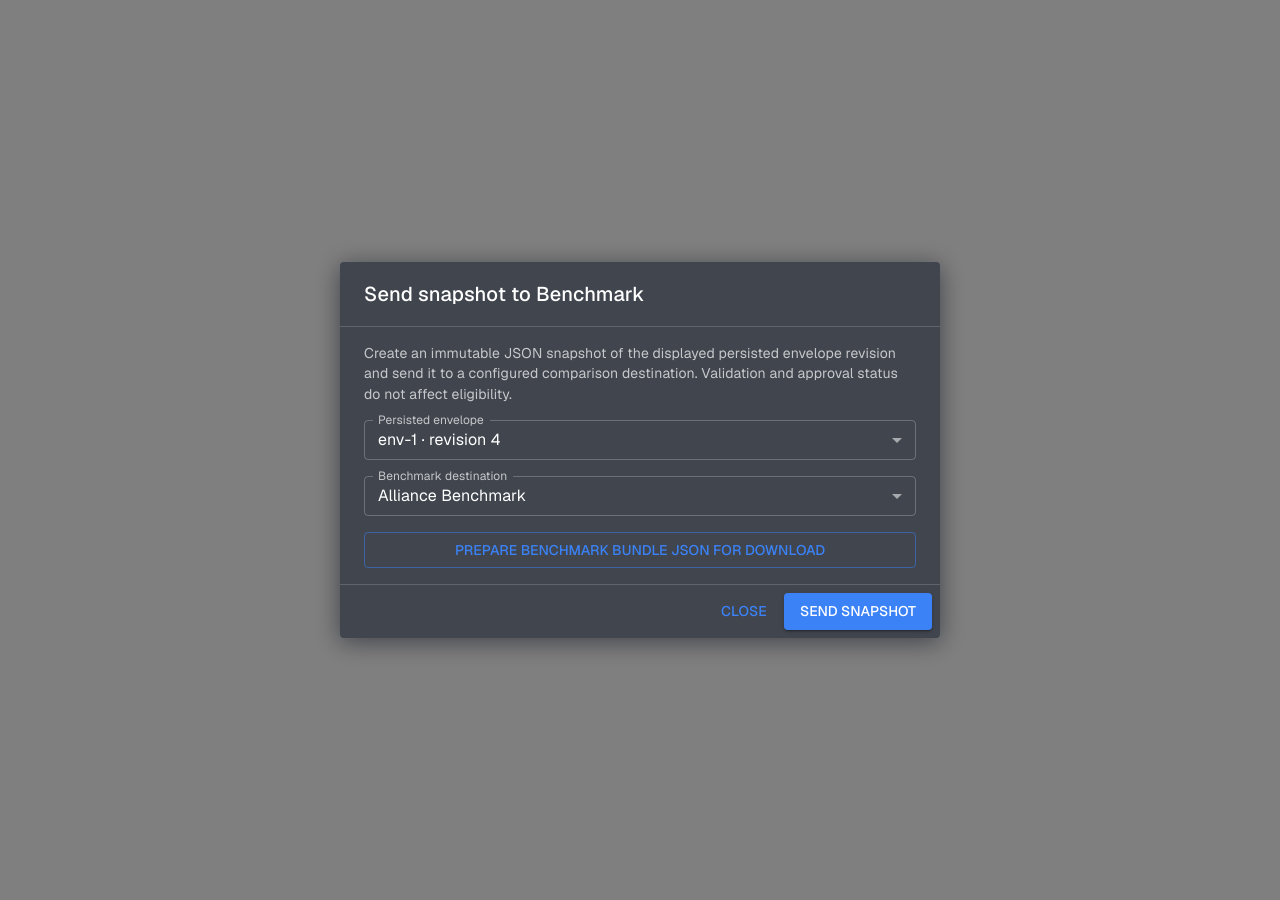
Test: BenchmarkSnapshotDialog › preserves an unknown handoff for download without navigation or resend
Expected: the dropdown named "Benchmark destination" is shown, [378,485,526,506]
Click the button "Send snapshot": (858, 611) [784,593,932,630]
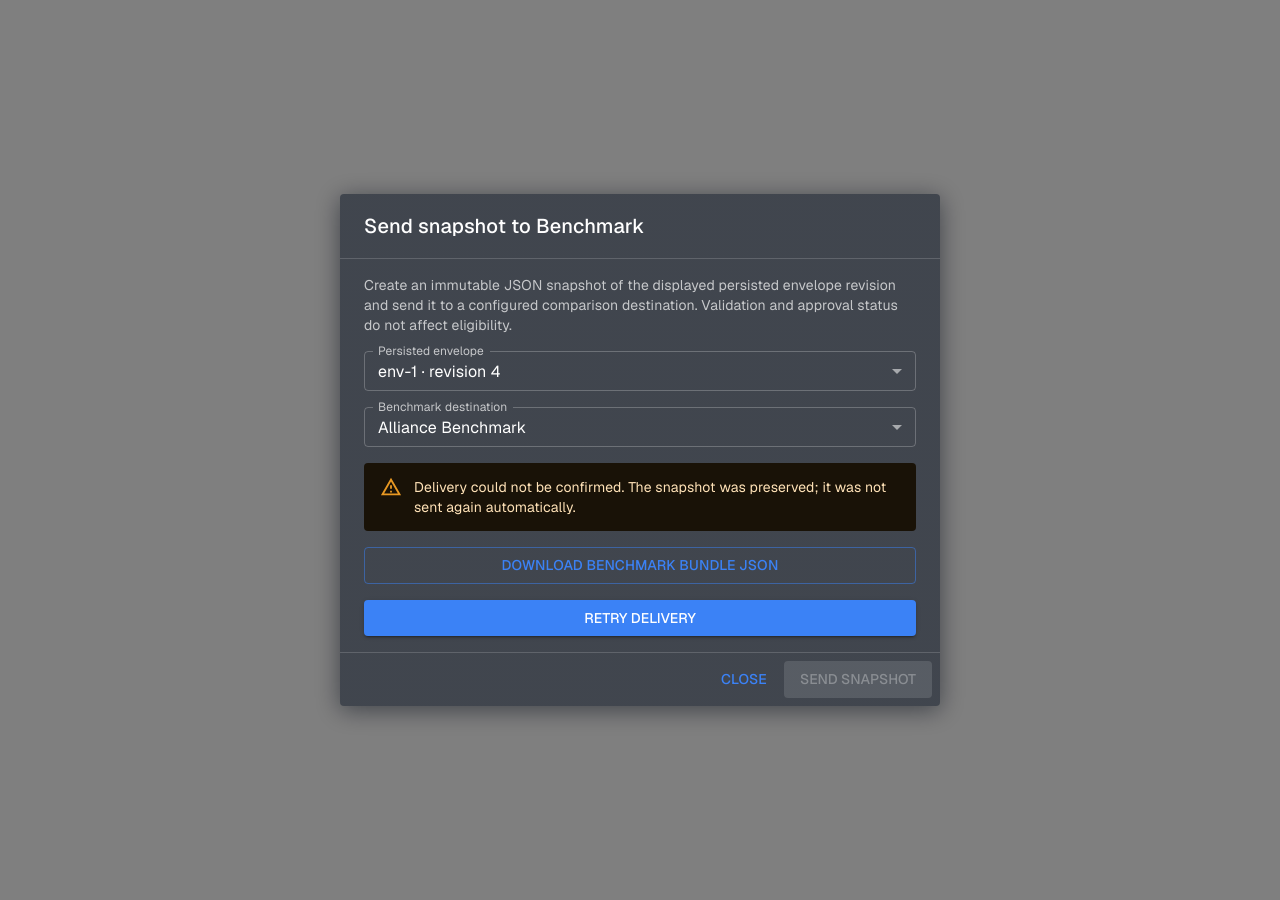
Expected: the text "it was not sent again automatically" is shown, [414,478,886,516]
Expected: the link "Download benchmark bundle JSON" is shown, [364,547,916,584]
Expected: the button "Send snapshot" is disabled, [784,661,932,698]
